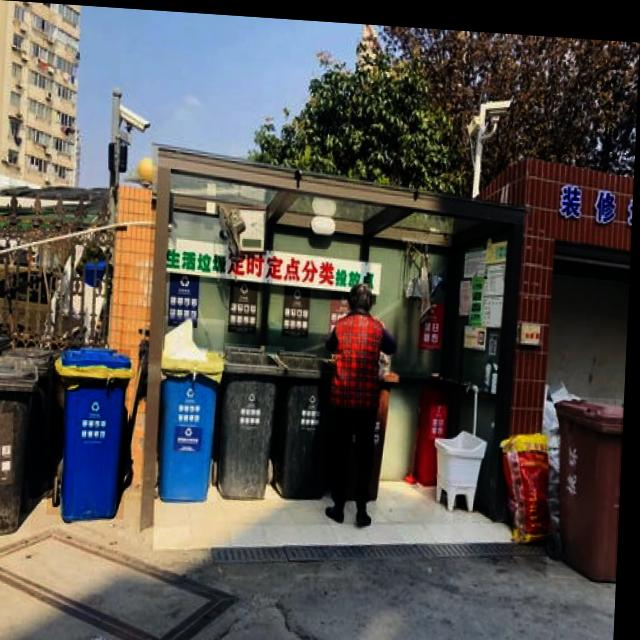garbage_bin: (51, 343, 134, 518), (551, 387, 626, 573), (223, 340, 288, 495), (275, 346, 335, 494), (0, 355, 42, 537)
overflow: (160, 313, 228, 499)
